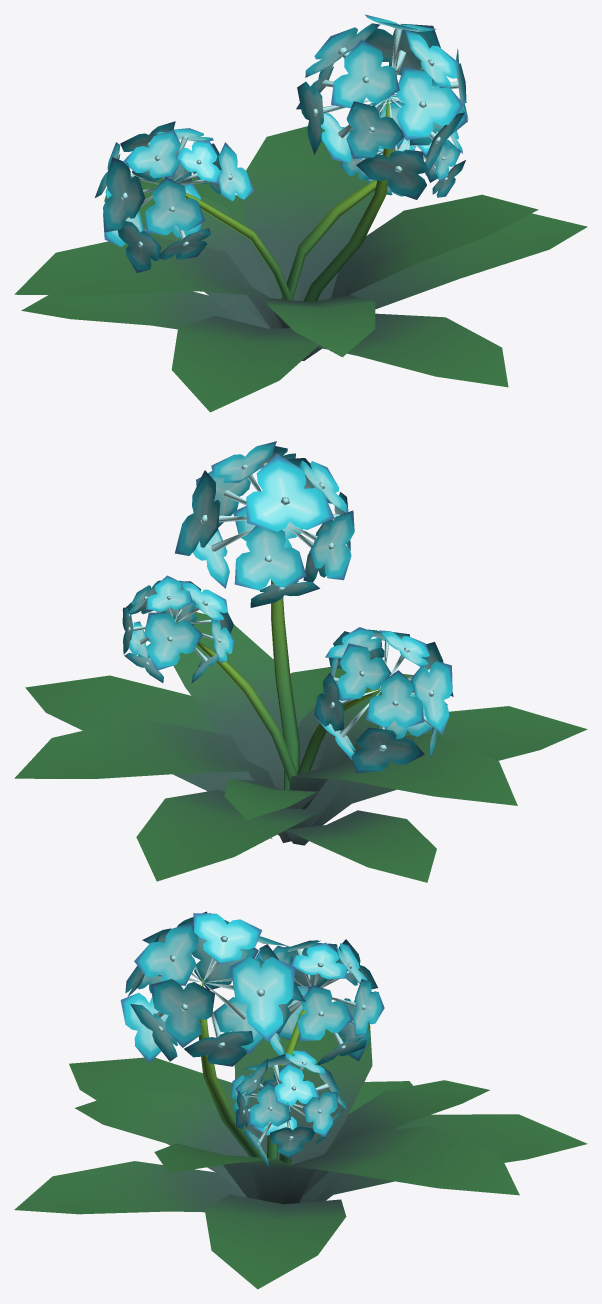
The model's file is Flower_028.fbx.
3 renders of one model, top to bottom at view 1: azimuth 30°, elevation 25°; view 2: azimuth 150°, elevation 25°; view 3: azimuth 270°, elevation 25°, orthographic. The views are drawn at different scales.
Parts seen in each view (by area): view 1: Flower.028; view 2: Flower.028; view 3: Flower.028.
Boxes of the visible parts, bbox=[...] form: Flower.028: bbox=[14, 14, 587, 412]; Flower.028: bbox=[14, 441, 587, 882]; Flower.028: bbox=[14, 911, 587, 1289].
Size of the model in its own units: 4.86 by 3.05 by 4.65.
